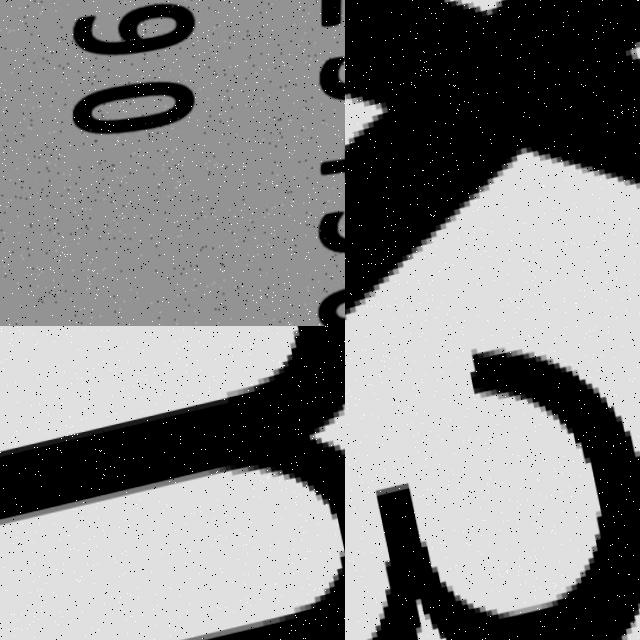0: (51, 37, 228, 179)
2: (300, 0, 345, 67)
3: (345, 326, 640, 640), (295, 17, 345, 145)
4: (297, 93, 345, 224)
5: (278, 167, 345, 304)
6: (271, 234, 345, 326)
9: (44, 0, 229, 104)
M: (0, 326, 345, 640)
X: (345, 0, 640, 326)
